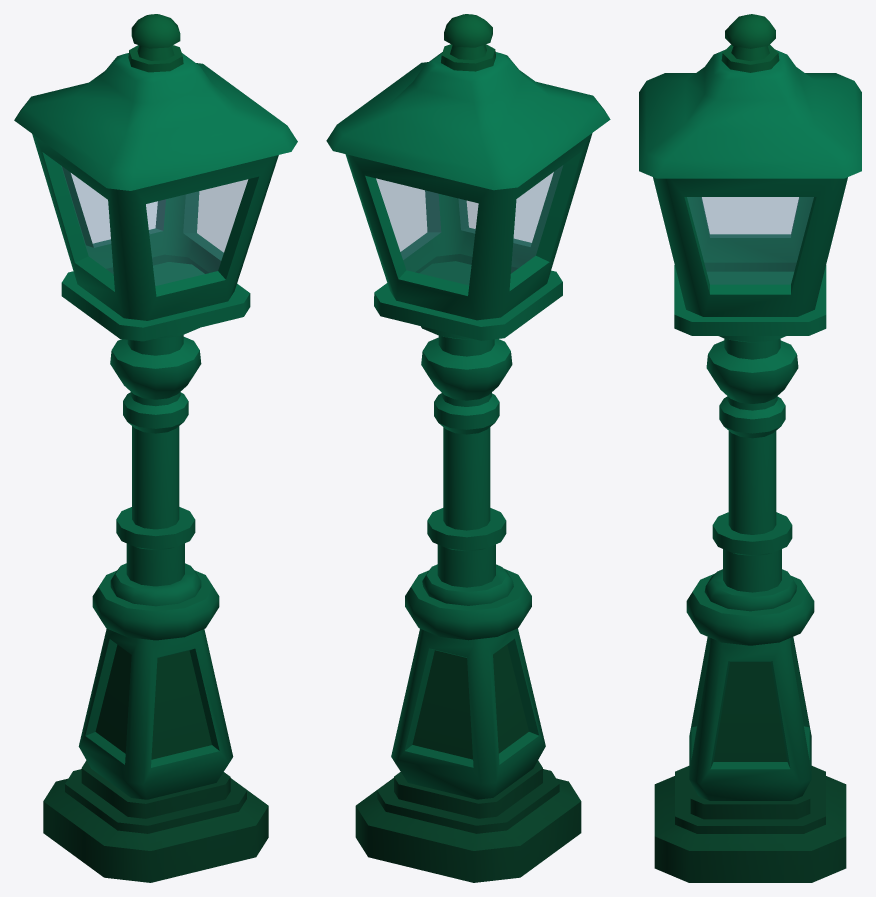
The model's file is Street_Light_01_C03.fbx.
The picture shows the model from 3 angles, left to right: view 1: azimuth 30°, elevation 25°; view 2: azimuth 150°, elevation 25°; view 3: azimuth 270°, elevation 25°; orthographic projection.
Visible parts, largest first — view 1: Street_Light_01_C03; view 2: Street_Light_01_C03; view 3: Street_Light_01_C03.
Boxes of the visible parts, x1,y1,x2,y2 form: Street_Light_01_C03: (14,14,297,882); Street_Light_01_C03: (326,14,610,882); Street_Light_01_C03: (639,14,861,882).
Size of the model in its own units: 80.91 by 331 by 80.91.
